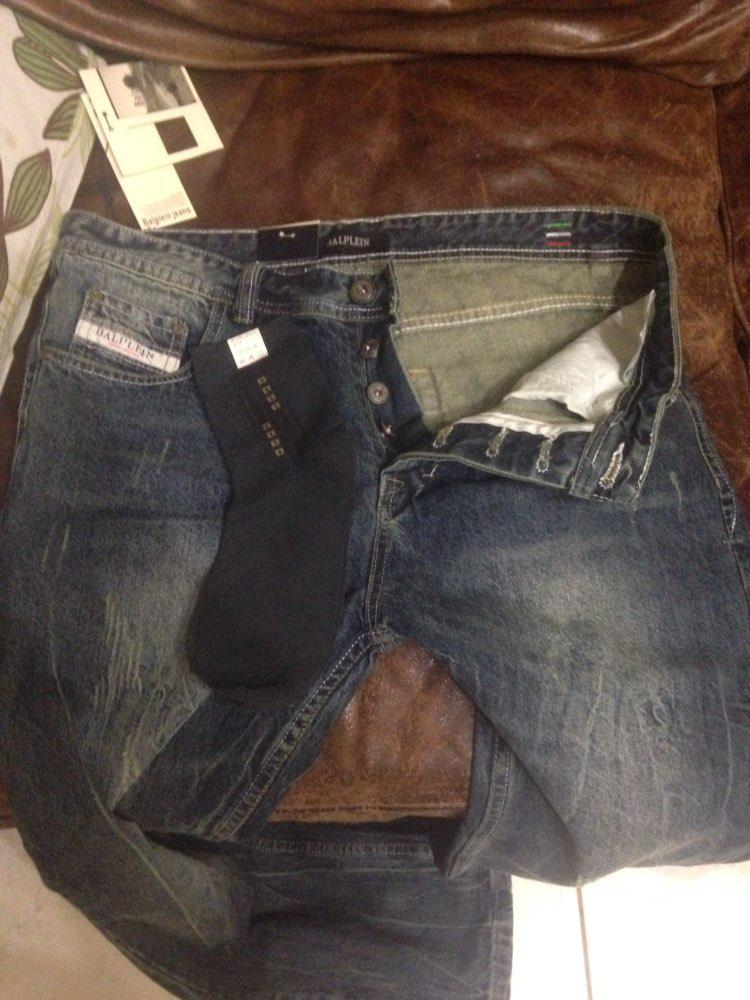jeans: (36, 216, 750, 940)
